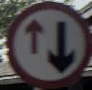Two way: (8, 9, 77, 75)
